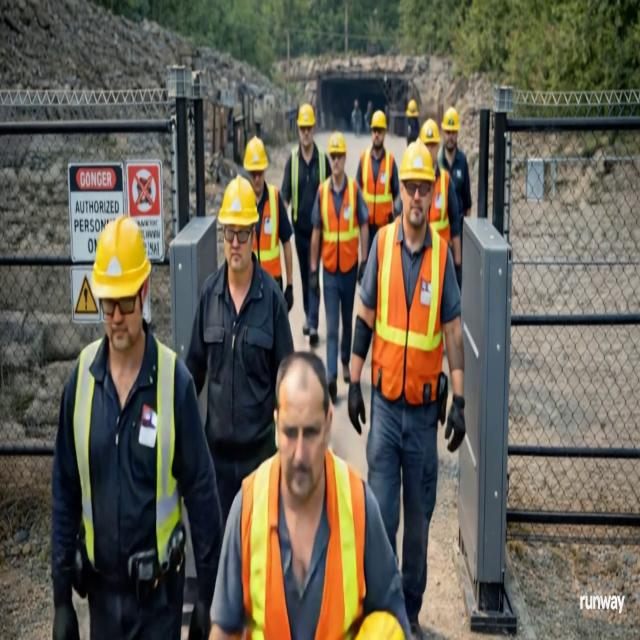Vest: (372, 217, 447, 405), (241, 454, 290, 639), (73, 340, 101, 566), (319, 177, 359, 273), (253, 185, 281, 278), (361, 149, 393, 226), (429, 168, 450, 246), (318, 149, 325, 183)
Worker: (52, 217, 222, 639), (348, 141, 465, 638), (210, 352, 409, 639), (186, 176, 293, 522), (310, 132, 368, 403), (281, 104, 330, 346), (244, 137, 293, 311), (420, 119, 461, 287), (356, 111, 399, 247)
helmet: (92, 217, 150, 298), (218, 176, 258, 226), (399, 140, 434, 181), (356, 612, 404, 639), (244, 136, 267, 171), (420, 119, 440, 143), (297, 104, 315, 127), (442, 107, 459, 131), (328, 132, 346, 154), (370, 111, 386, 129), (406, 99, 418, 117)
